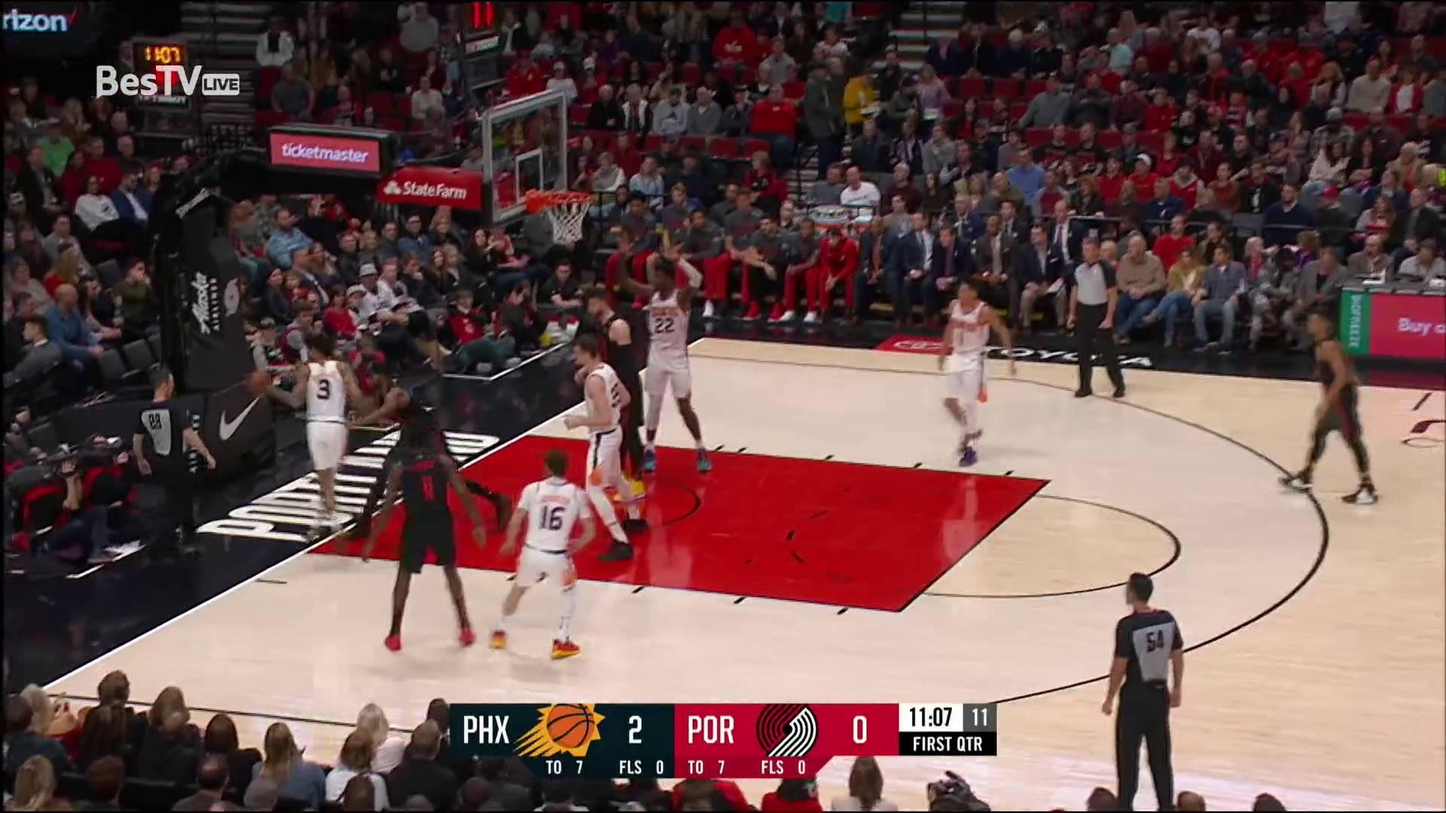basketball: (246, 369, 274, 397)
